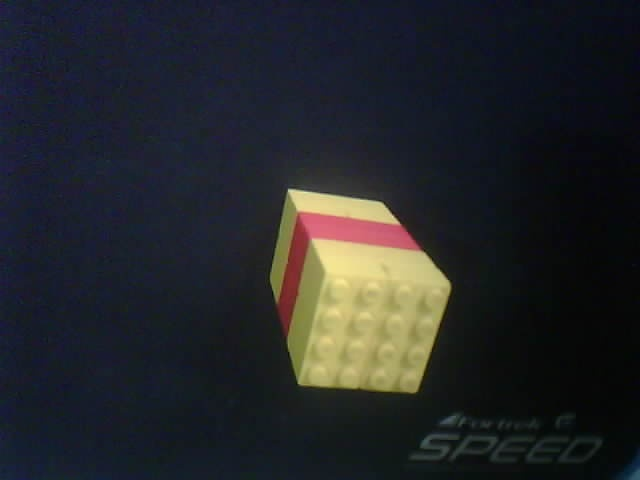lego: (268, 185, 452, 393)
